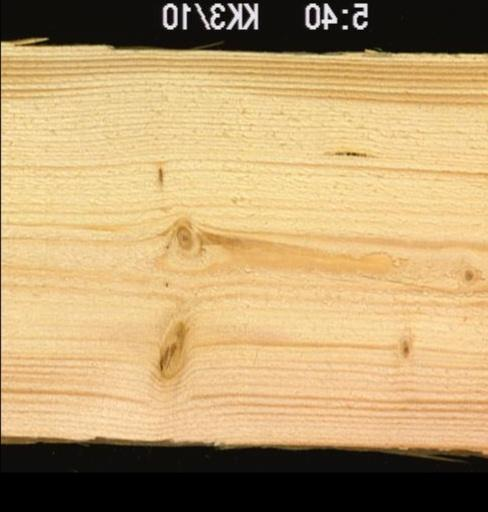small_knot: (396, 335, 409, 359), (461, 264, 473, 281), (156, 164, 163, 186)
sound_knot: (152, 312, 188, 379), (166, 220, 199, 253)
wave: (0, 434, 222, 444)
